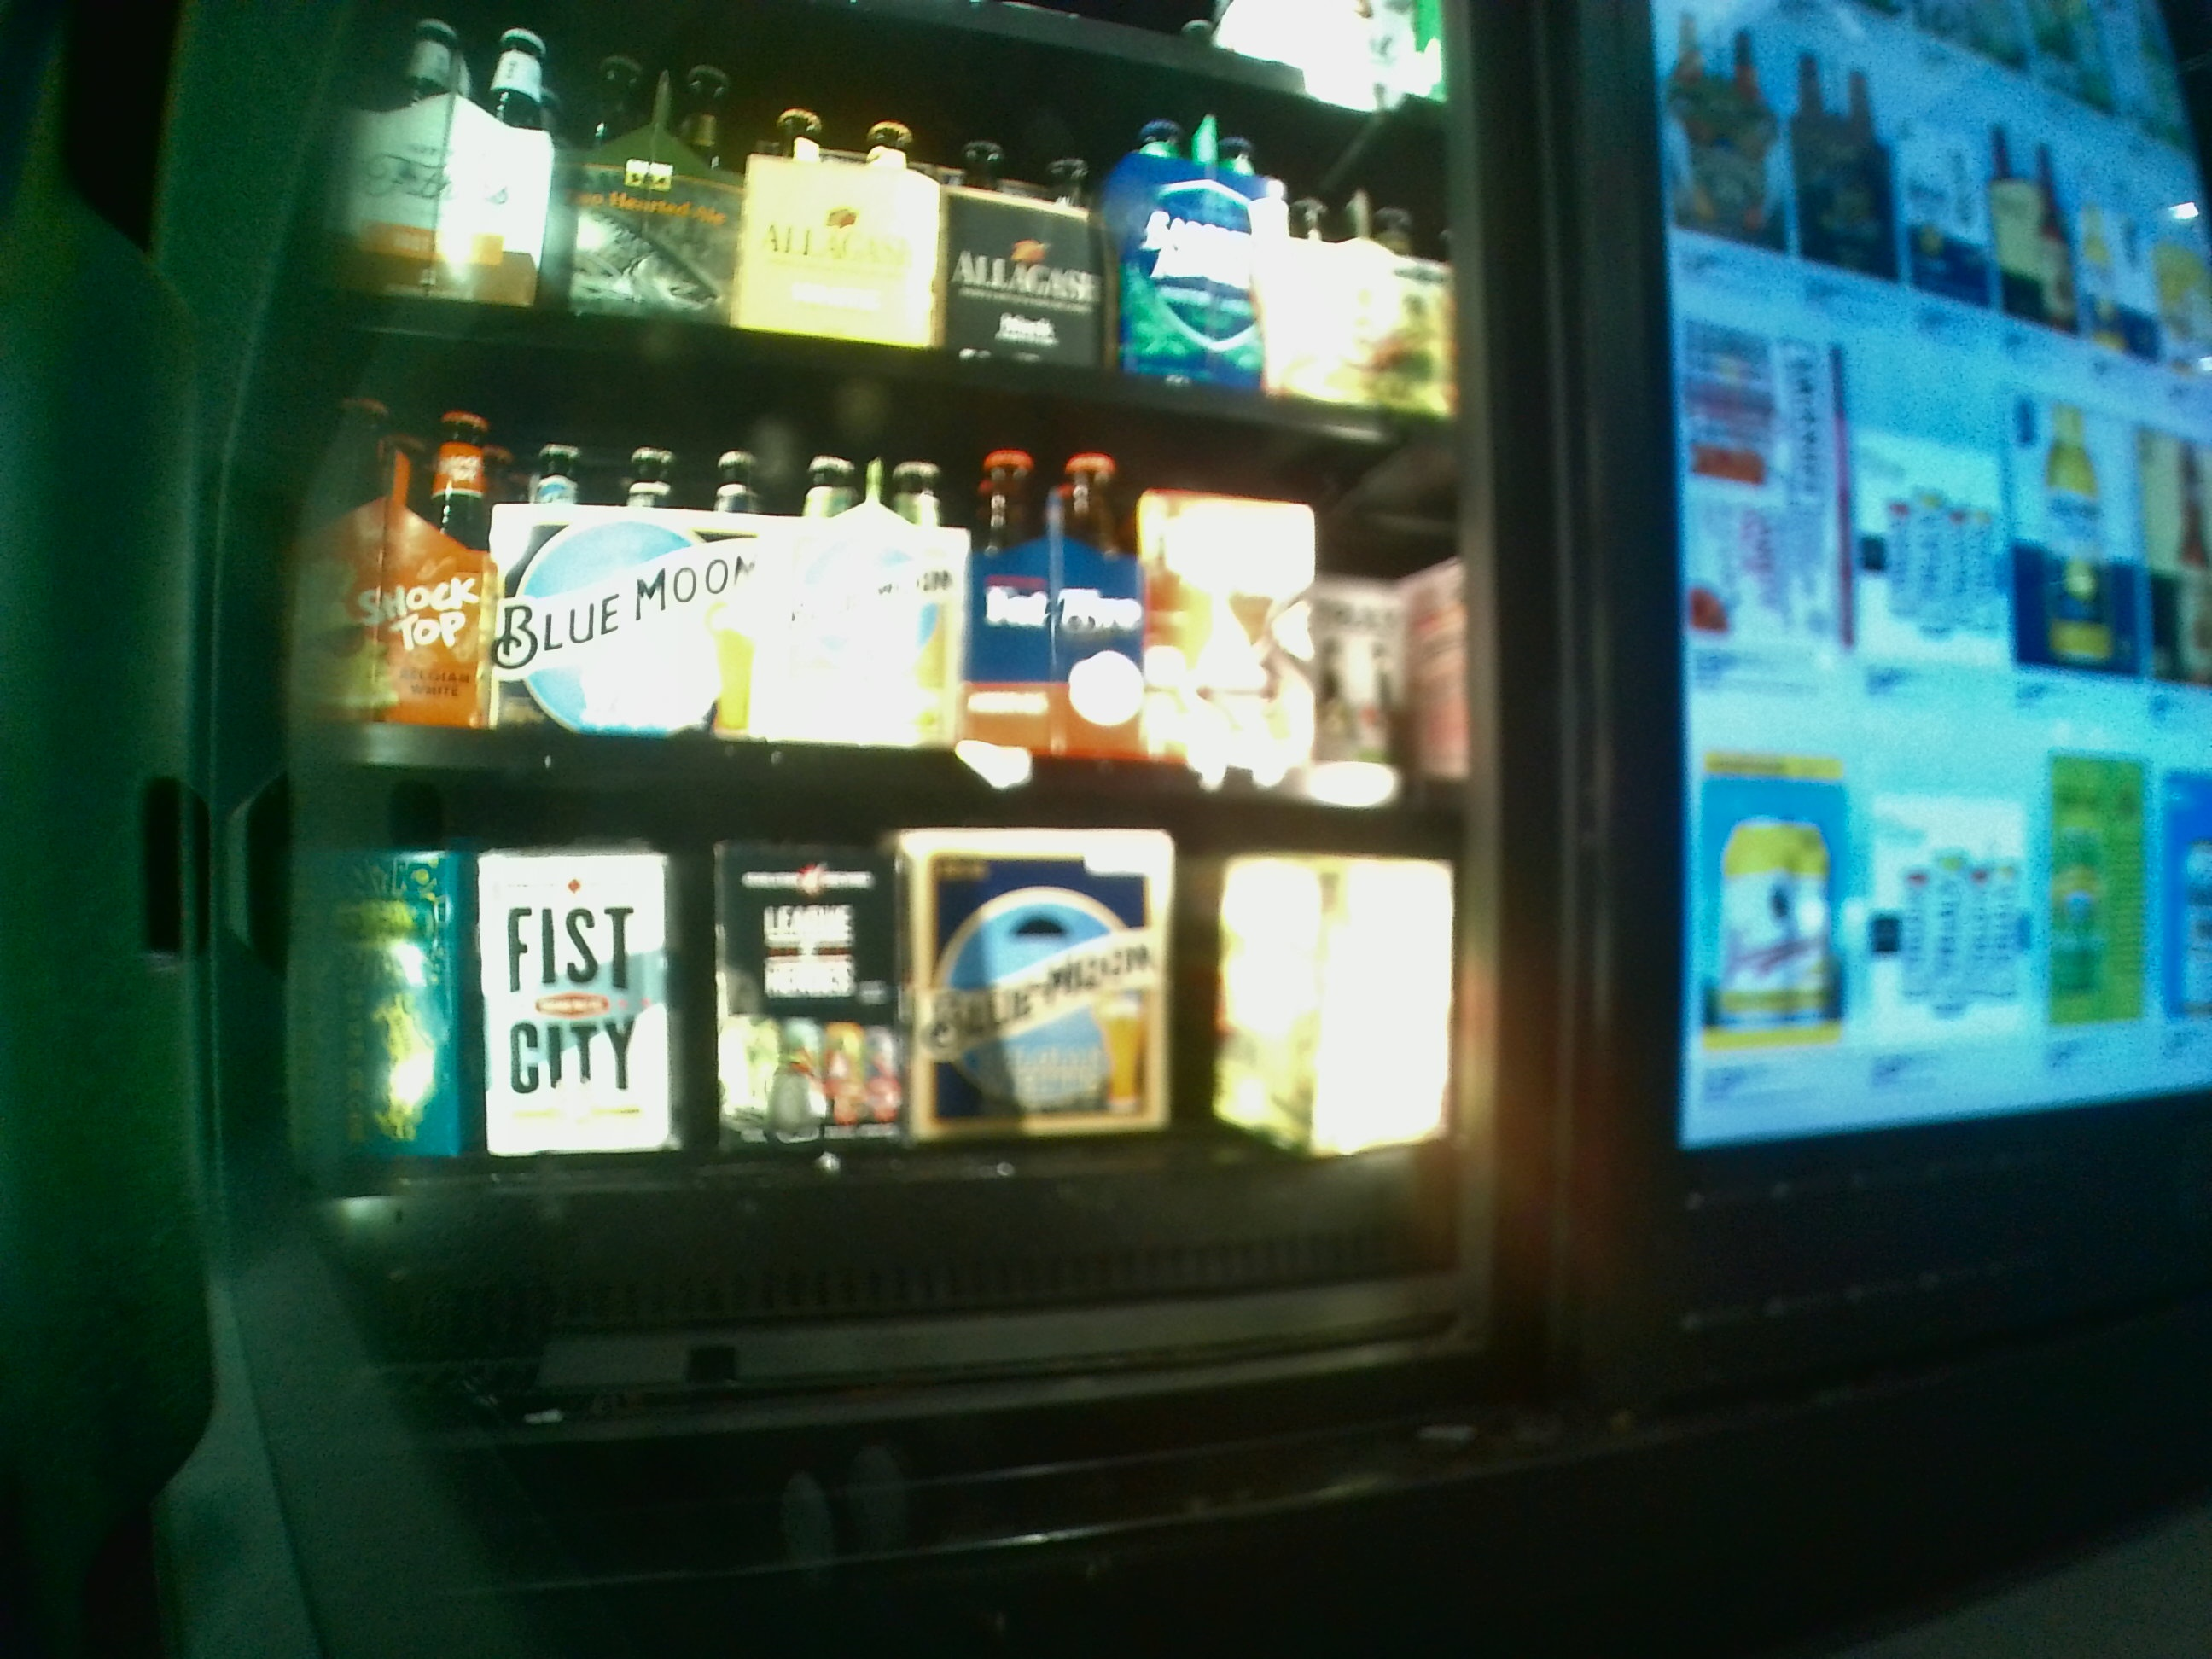shelf: (303, 809, 1470, 1337), (301, 350, 1460, 798)
